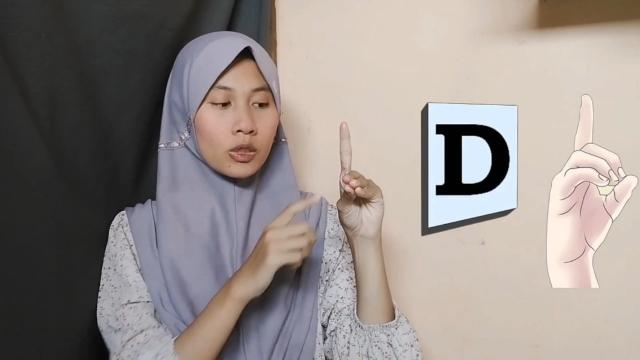D: (337, 119, 388, 241)
